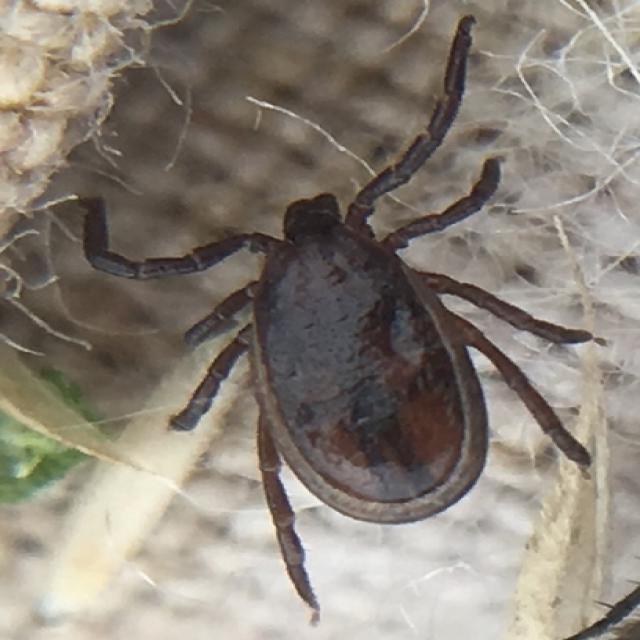Ixodes Ricinus-M: (86, 17, 604, 626)
